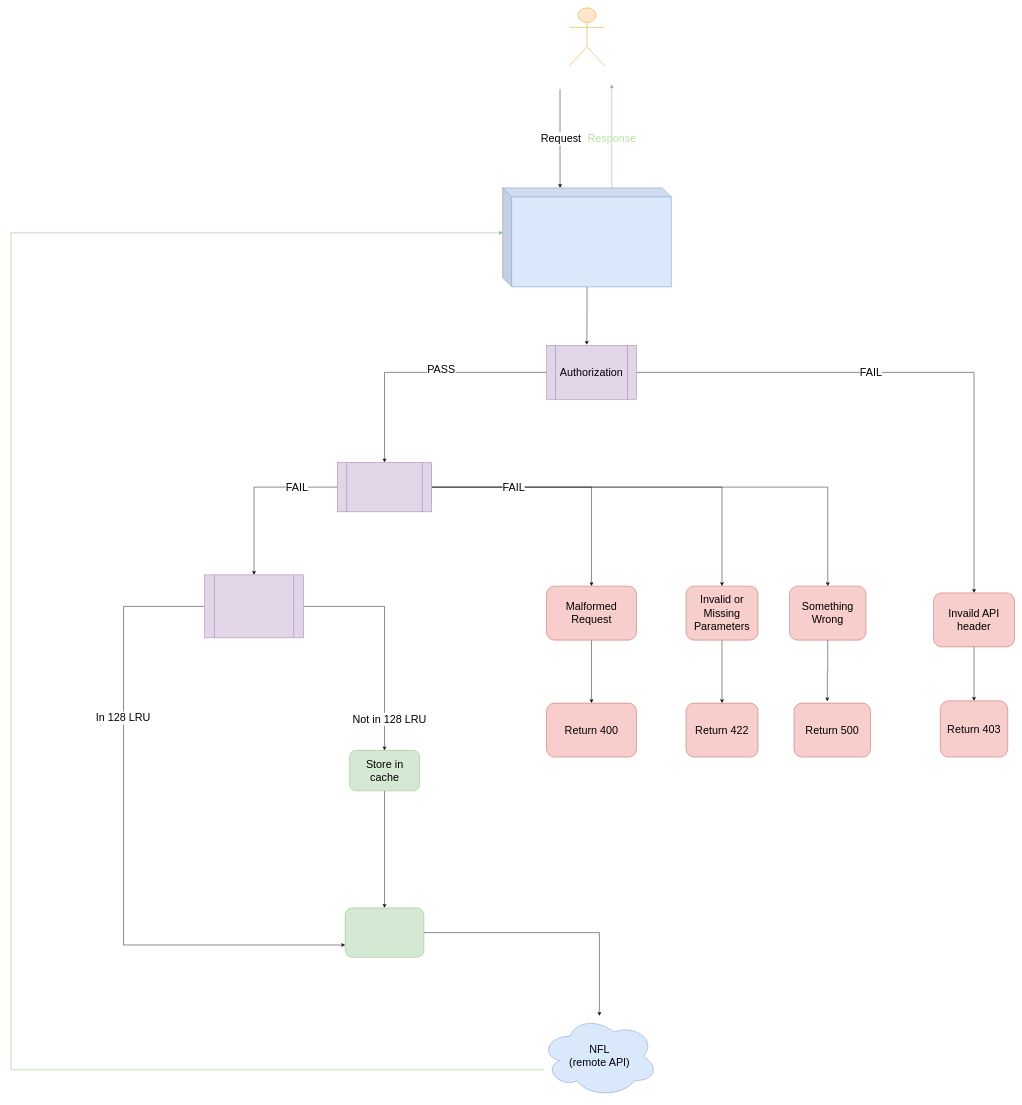
Some shapes in this 1022 by 1105 pixel diagram are drawn without their labels. Each missing label, with the centre of its shape:
"Actor" belongs at point 587,36.
"Cache Chec king" belongs at point 254,606.
"Endpoint (http://localhost:8000/events )" belongs at point 586,237.
"Return 200" belongs at point 384,932.
"Validation" belongs at point 384,487.
